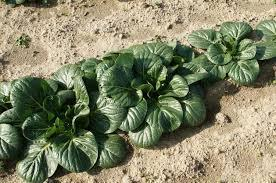Healthy-Pechay: (7, 66, 248, 163), (112, 19, 276, 78)
